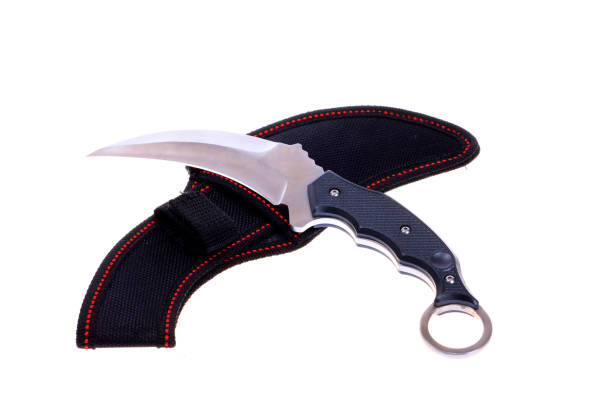knife: (83, 127, 495, 358)
